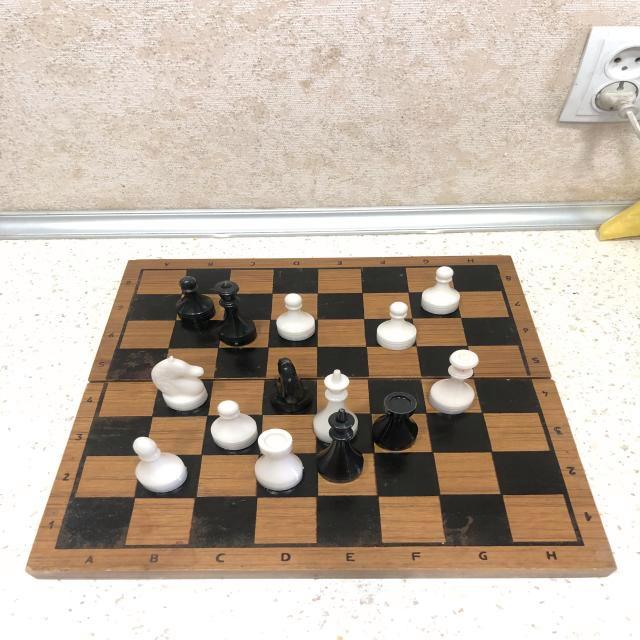chess-table-corners: (562, 530, 594, 554), (43, 538, 71, 559), (132, 263, 156, 277), (485, 258, 507, 272)
